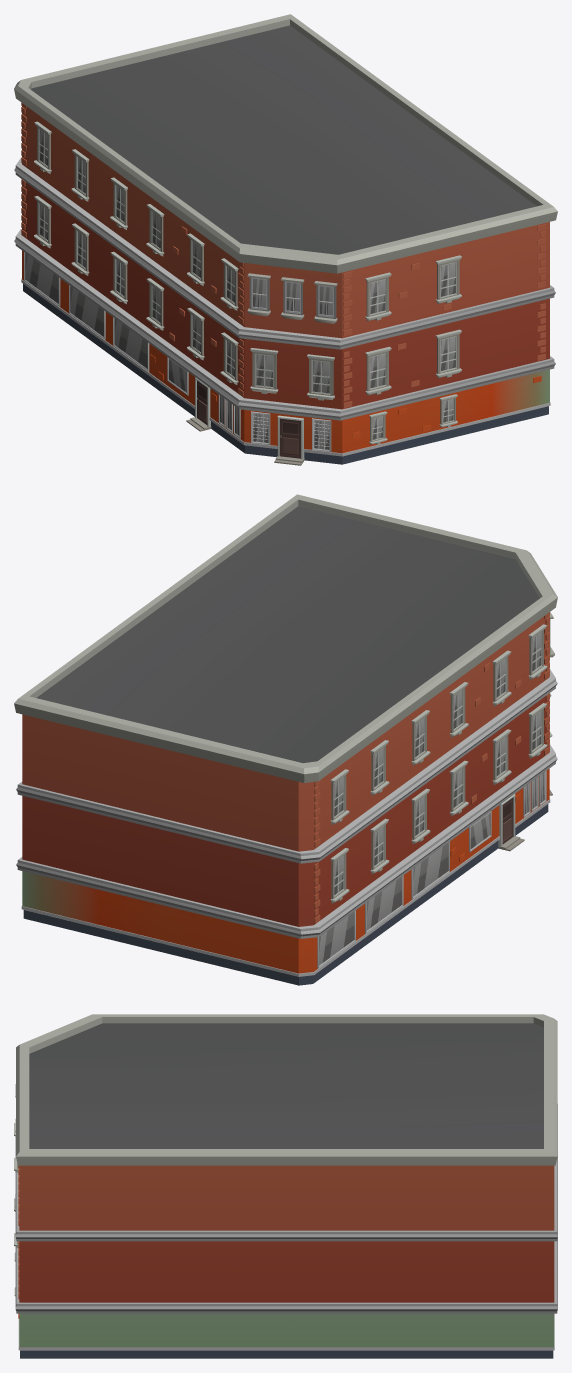
File: Building_25_10_D.glb
3 renders of one model, top to bottom at view 1: azimuth 30°, elevation 25°; view 2: azimuth 150°, elevation 25°; view 3: azimuth 270°, elevation 25°, orthographic. The views are drawn at different scales.
Visible parts, largest first — view 1: Building_25_10_D; view 2: Building_25_10_D; view 3: Building_25_10_D.
Part boxes in pixels (x1,y1,x2,y2): Building_25_10_D: (14, 14, 557, 465); Building_25_10_D: (14, 494, 557, 985); Building_25_10_D: (14, 1014, 557, 1358).
Size of the model in its own units: 16.83 by 11.59 by 27.29.
3 materials, 3 textured.
